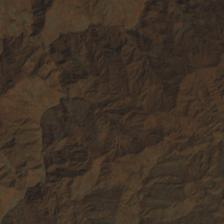landslides: (18, 138, 38, 147)
